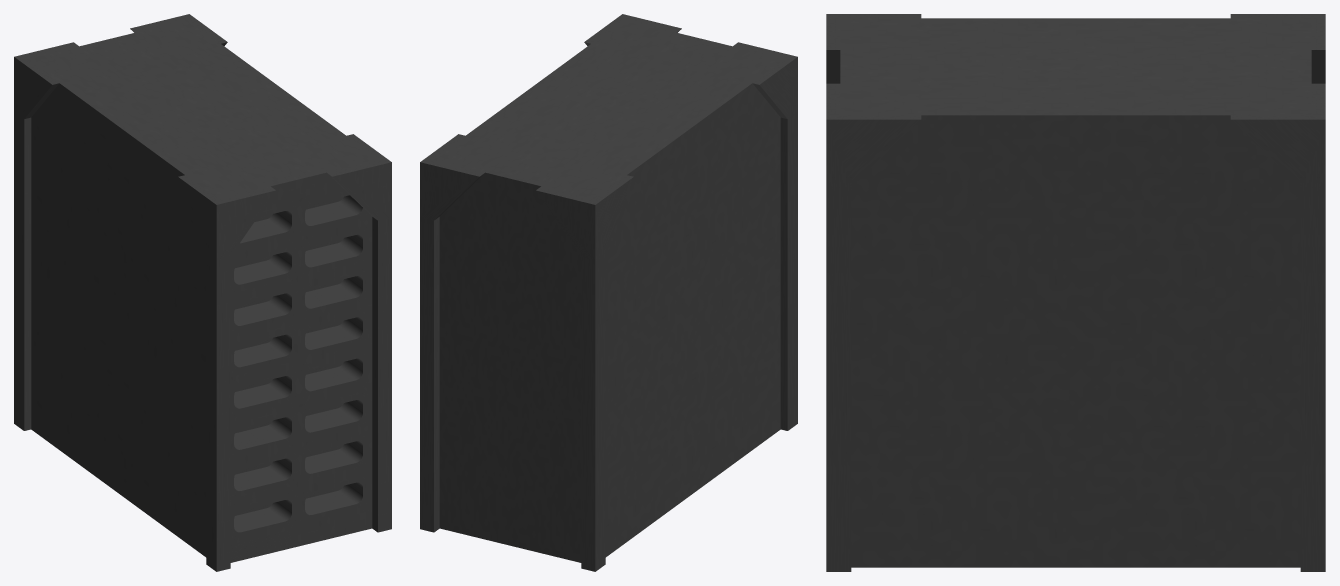
Rendered from WallPiece_02_Top.fbx.
The picture shows the model from 3 angles, left to right: view 1: azimuth 30°, elevation 25°; view 2: azimuth 150°, elevation 25°; view 3: azimuth 270°, elevation 25°; orthographic projection. The views are drawn at different scales.
Parts seen in each view (by area): view 1: Corridor_WallPiece_02_Top; view 2: Corridor_WallPiece_02_Top; view 3: Corridor_WallPiece_02_Top.
Part boxes in pixels (x1,y1,x2,y2): Corridor_WallPiece_02_Top: [14, 14, 391, 571]; Corridor_WallPiece_02_Top: [420, 14, 797, 571]; Corridor_WallPiece_02_Top: [826, 14, 1325, 571].
Bounding box in the file's own units: 50 × 100 × 100.
1 material, 1 textured.
